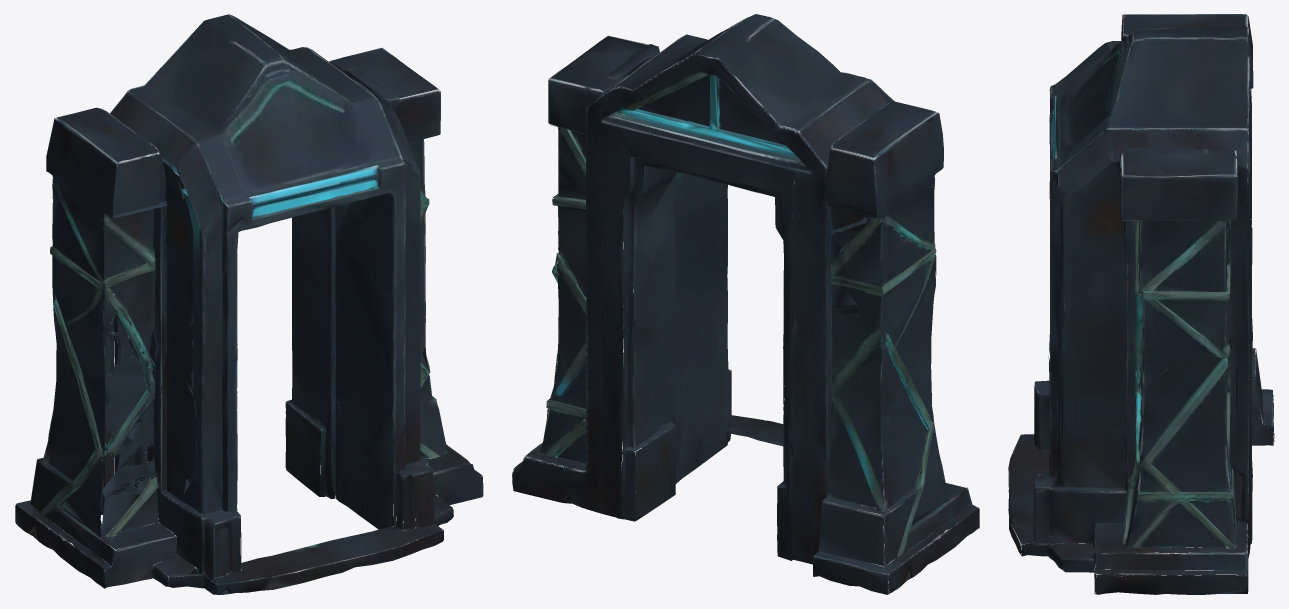
The model's file is gate.glb.
The picture shows the model from 3 angles, left to right: view 1: azimuth 30°, elevation 25°; view 2: azimuth 150°, elevation 25°; view 3: azimuth 270°, elevation 25°; orthographic projection. The views are drawn at different scales.
Parts seen in each view (by area): view 1: world; view 2: world; view 3: world.
Part boxes in pixels (x1,y1,x2,y2): world: (15, 14, 483, 594); world: (512, 14, 979, 594); world: (1008, 14, 1274, 594).
Size of the model in its own units: 0.8484 by 1 by 0.514.
Materials: 1 (1 with a texture image).
